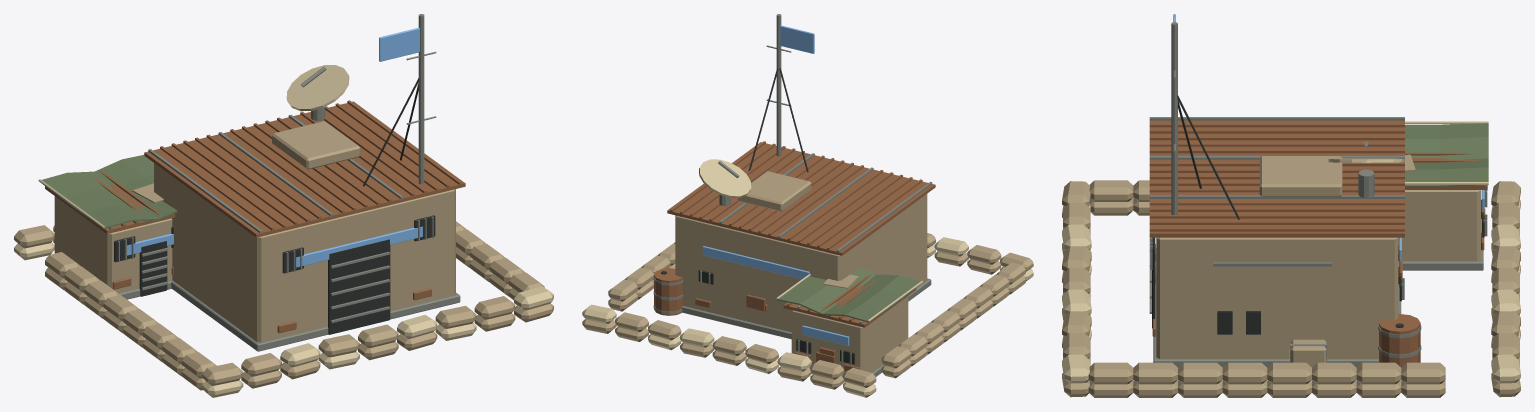
The model's file is command_cell.glb.
3 views of the same model, side by side, from view 1: azimuth 30°, elevation 25°; view 2: azimuth 150°, elevation 25°; view 3: azimuth 270°, elevation 25° (orthographic). The views are drawn at different scales.
Visible parts, largest first — view 1: command_cell; view 2: command_cell; view 3: command_cell.
Part boxes in pixels (x1,y1,x2,y2): command_cell: (14,14,553,397); command_cell: (582,14,1033,397); command_cell: (1062,14,1520,397).
Bounding box in the file's own units: 4.8 × 3.8 × 4.8.
